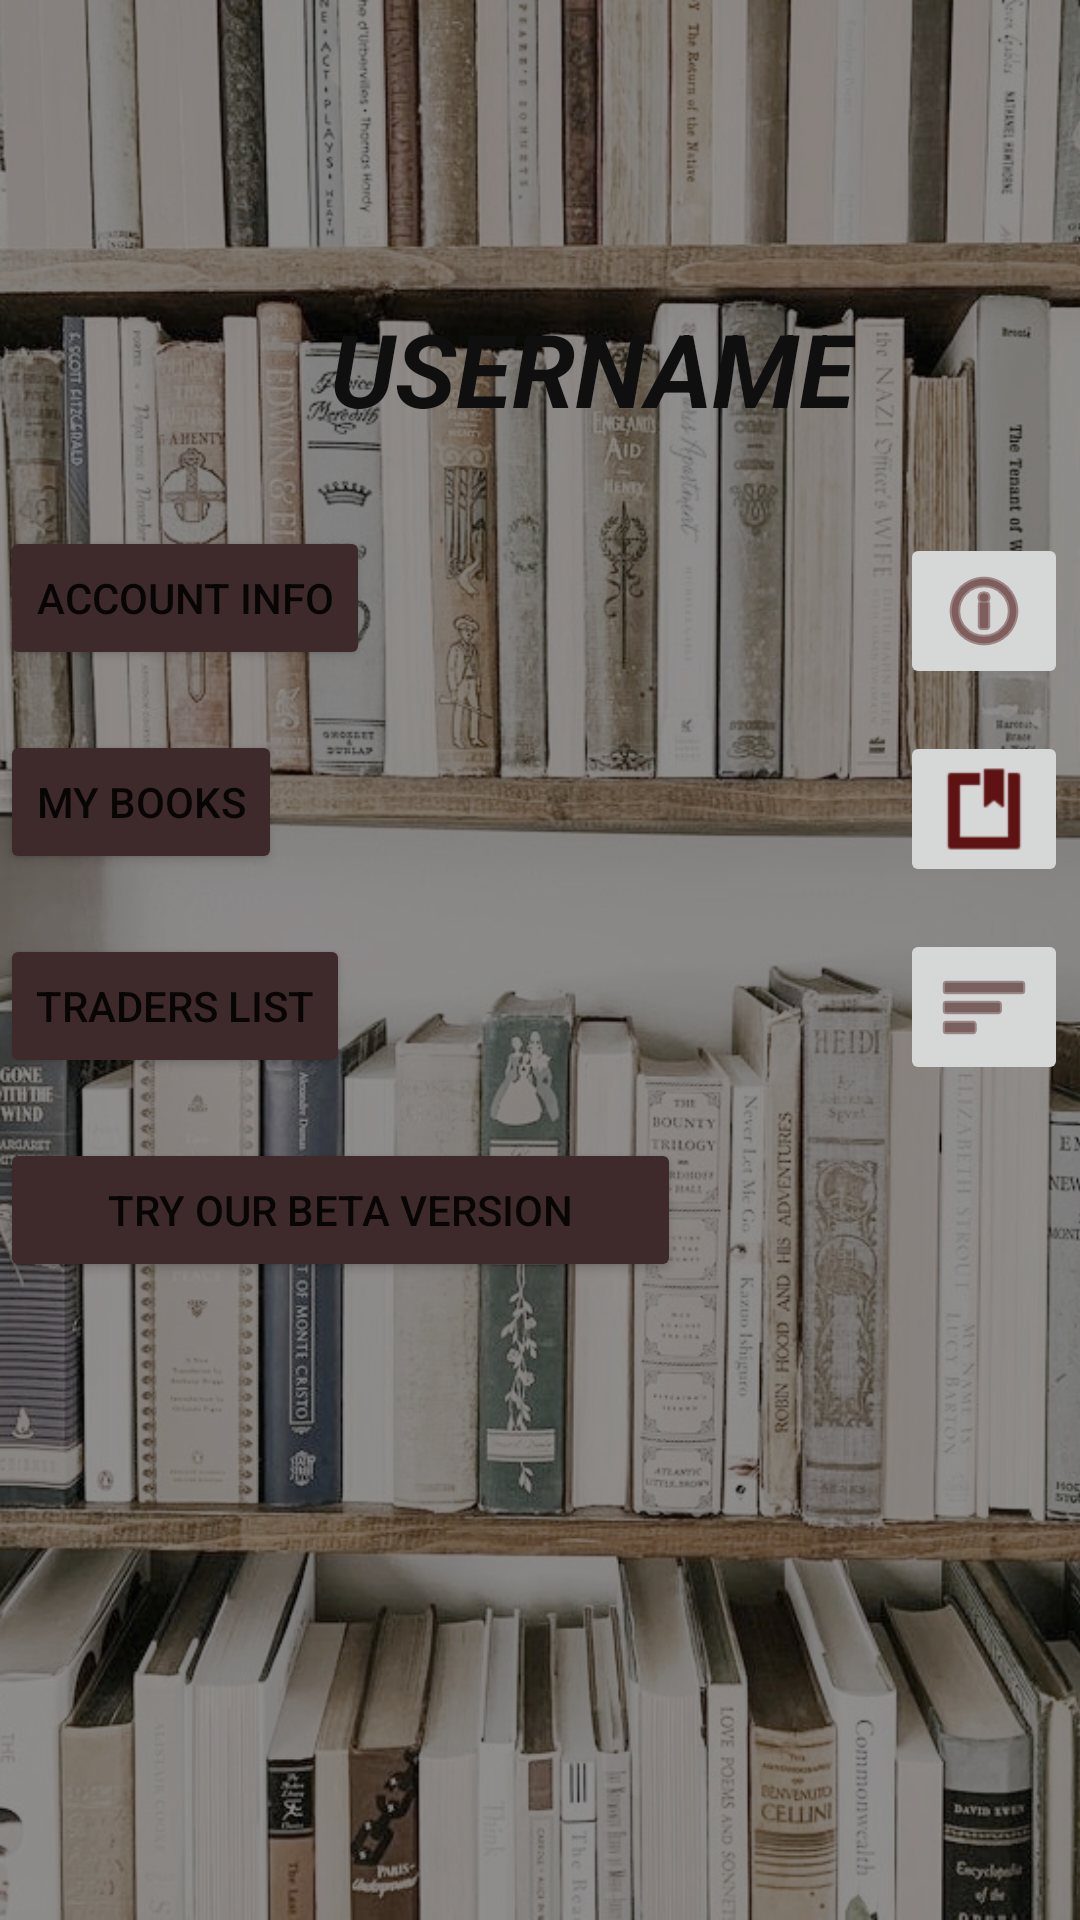

Screen size 1080x1920. Icon name, then its box in pixels as (x1=x1, y1=y1, x2=x2, y2=y2):
info details: (x1=900, y1=533, x2=1056, y2=689)
sort by size: (x1=900, y1=947, x2=1068, y2=1085)
